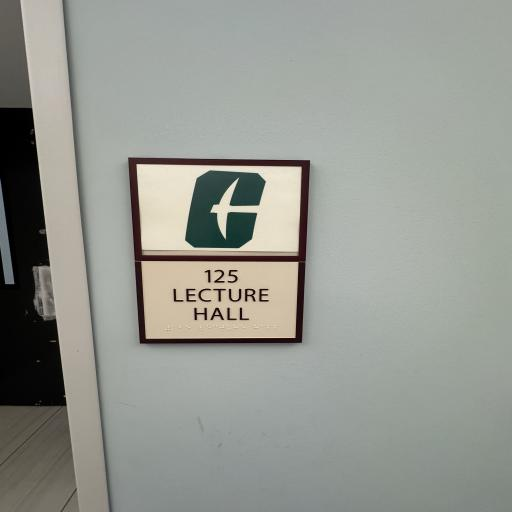room 125 sign: (125, 152, 325, 350)
